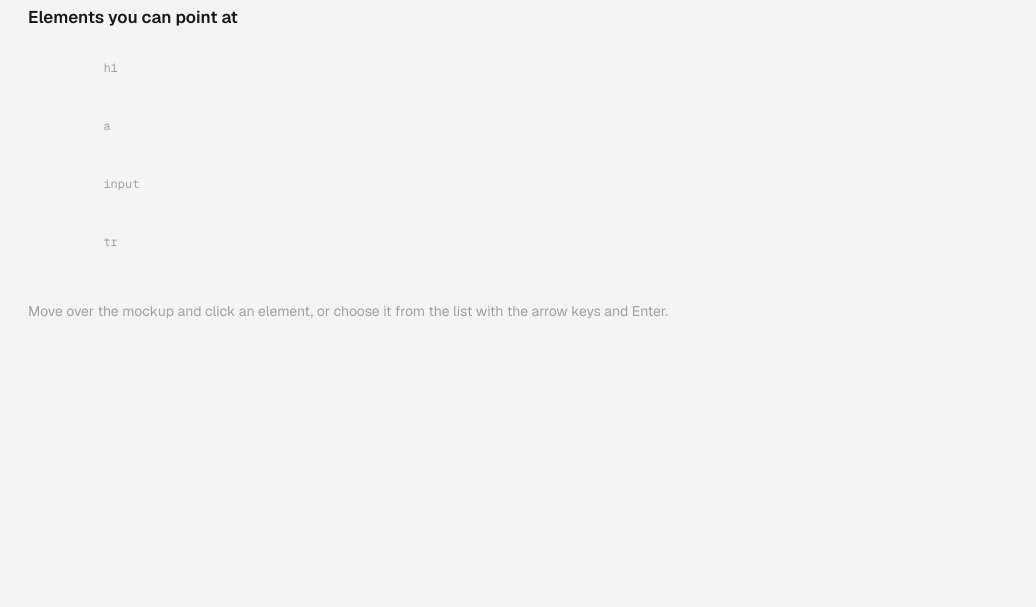
Test case: mockup inspector › speaks English when the page is in English
What coordinates should you click on to do the following:
click the option with test id "mockup-element" showing "ELM-003 input Cerca un libro"
I would click on:
 (92, 194)
Its box is x1=45 y1=176 x2=139 y2=212.
(page scrolled)
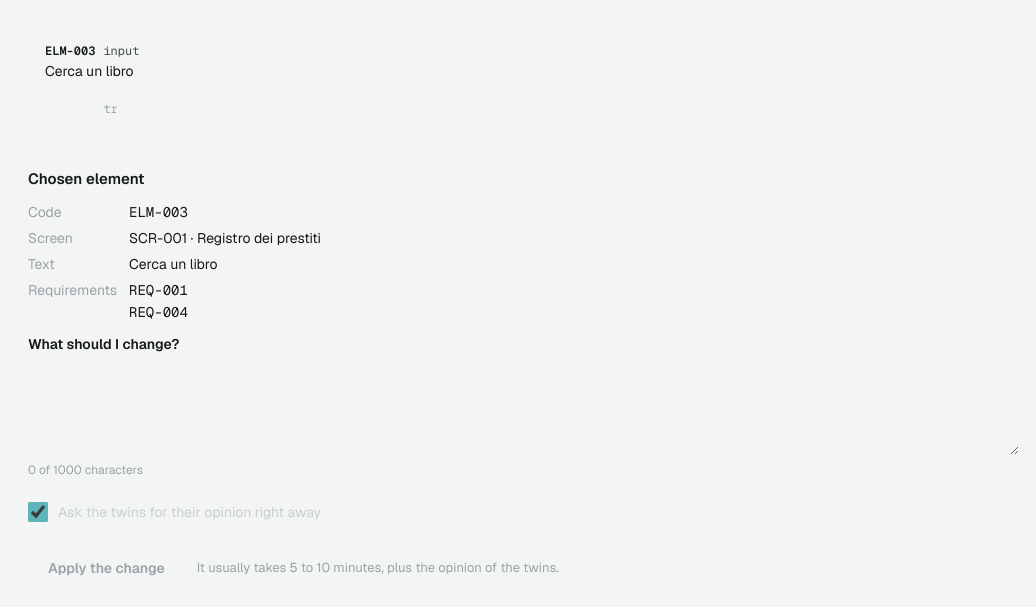
Now the heading "Chosen element" is shown, box x1=28 y1=168 x2=144 y2=188
Now the label "What should I change?" is shown, box x1=28 y1=335 x2=179 y2=353
Now the text with test id "mockup-estimate" reads "It usually takes 5 to 10 minutes, plus the opinion of the twins.", box x1=197 y1=559 x2=559 y2=576
